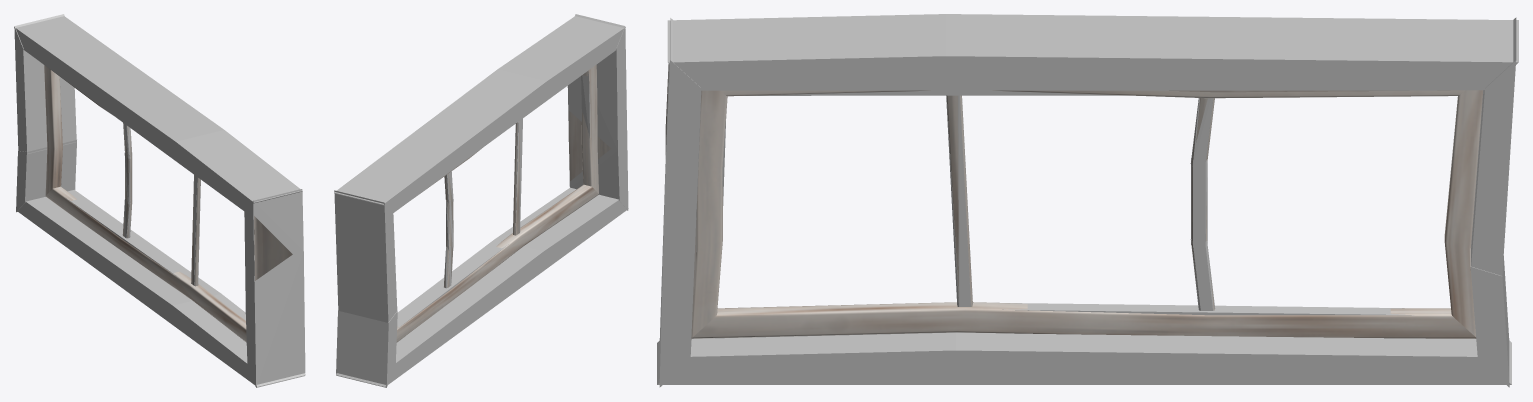
File: SM_PropWindow01TypeD_2_1.fbx
3 views of the same model, side by side, from view 1: azimuth 30°, elevation 25°; view 2: azimuth 150°, elevation 25°; view 3: azimuth 270°, elevation 25° (orthographic). The views are drawn at different scales.
Parts seen in each view (by area): view 1: SM_PropWindow01TypeD_2_1_ConvexHulls, SM_PropWindow01TypeD_2_1; view 2: SM_PropWindow01TypeD_2_1_ConvexHulls, SM_PropWindow01TypeD_2_1; view 3: SM_PropWindow01TypeD_2_1_ConvexHulls, SM_PropWindow01TypeD_2_1.
Part boxes in pixels (x1,y1,x2,y2): SM_PropWindow01TypeD_2_1_ConvexHulls: (14,14,305,387); SM_PropWindow01TypeD_2_1: (44,65,292,341); SM_PropWindow01TypeD_2_1_ConvexHulls: (334,14,628,387); SM_PropWindow01TypeD_2_1: (396,65,611,342); SM_PropWindow01TypeD_2_1_ConvexHulls: (657,14,1518,387); SM_PropWindow01TypeD_2_1: (665,64,1483,339).
Bounding box in the file's own units: 31.63 × 265 × 113.
Materials: 2 (1 with a texture image).
